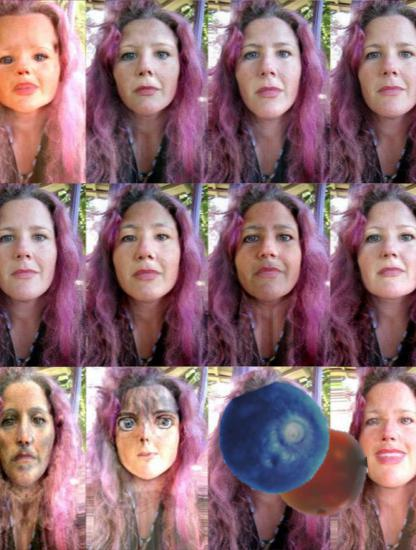Huckleberry: (219, 383, 332, 496)
Tomato: (272, 424, 368, 520)
